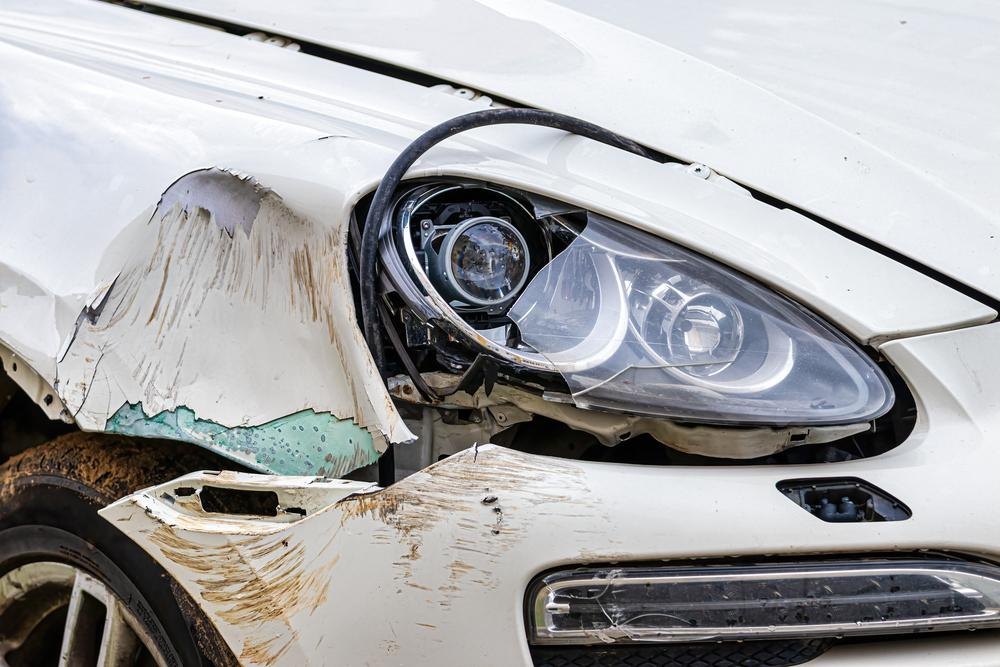dent: (56, 168, 387, 474)
lamp broken: (352, 180, 902, 441)
scratch: (145, 444, 629, 667)
